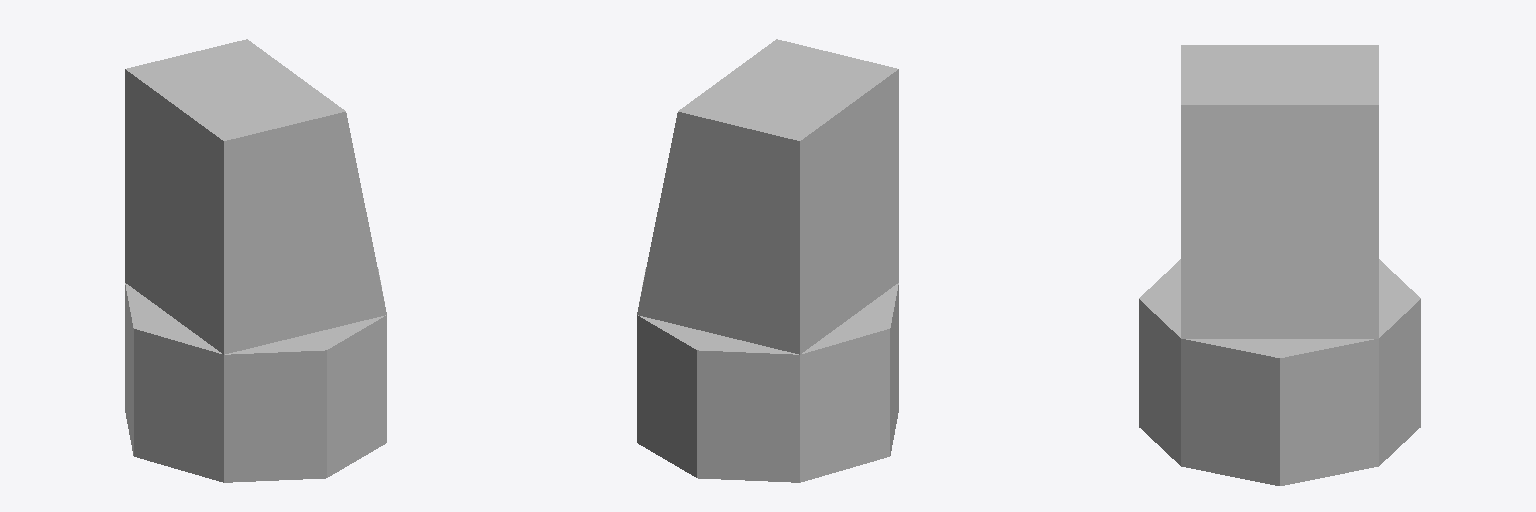
Rendered from basemotor.obj.
The picture shows the model from 3 angles: view 1: azimuth 30°, elevation 25°; view 2: azimuth 150°, elevation 25°; view 3: azimuth 270°, elevation 25°; orthographic projection.
Parts seen in each view (by area): view 1: BASEY_mesh.001; view 2: BASEY_mesh.001; view 3: BASEY_mesh.001.
Part boxes in pixels (left/top/right/bottom): BASEY_mesh.001: left=125, top=39, right=386, bottom=482; BASEY_mesh.001: left=637, top=39, right=898, bottom=482; BASEY_mesh.001: left=1139, top=45, right=1420, bottom=485.
Bounding box in the file's own units: 0.6 × 0.8 × 0.6.